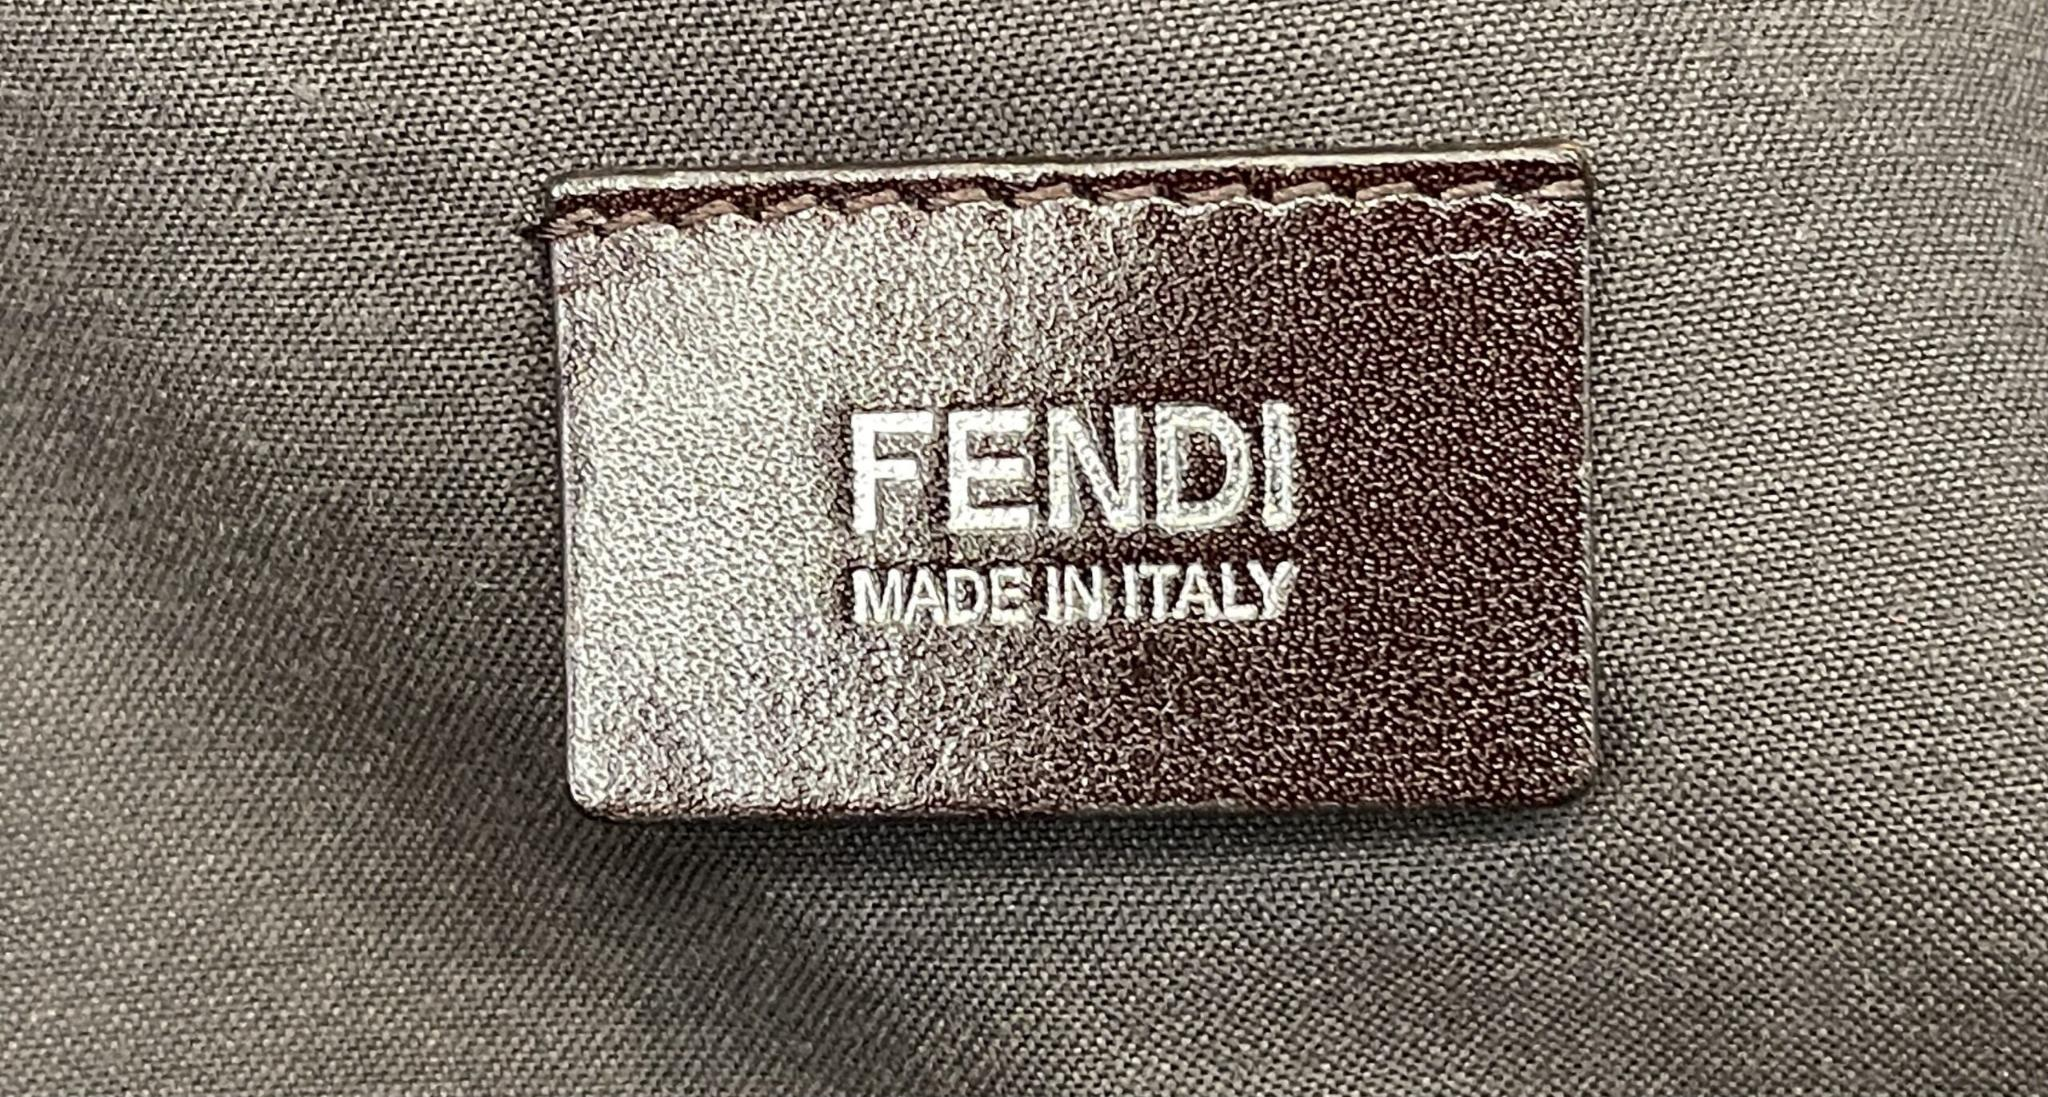FENDI: (852, 402, 1295, 532)
